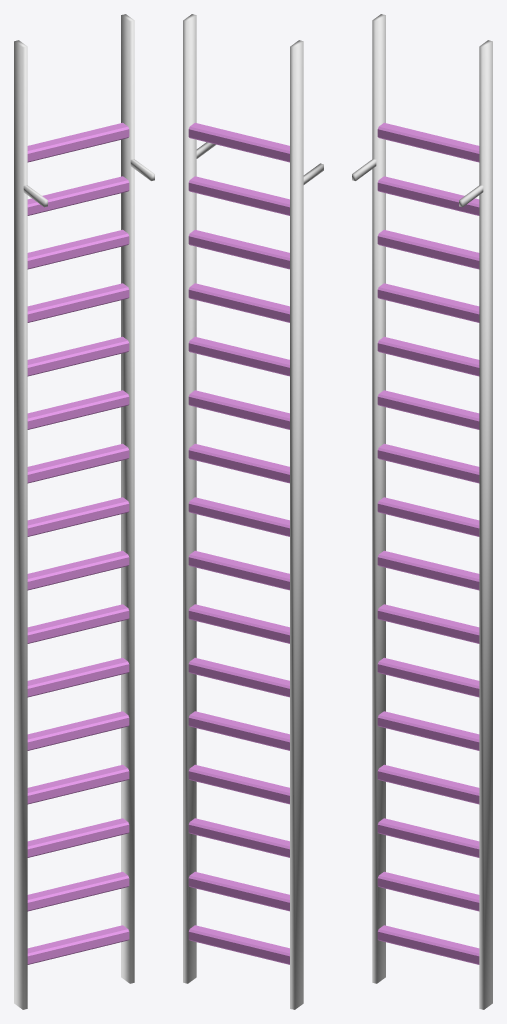
File: Ladder.fbx
The picture shows the model from 3 angles, left to right: view 1: azimuth 30°, elevation 25°; view 2: azimuth 150°, elevation 25°; view 3: azimuth 330°, elevation 25°; orthographic projection.
Visible parts, largest first — view 1: Ladder; view 2: Ladder; view 3: Ladder.
Part boxes in pixels (x1,y1,x2,y2): Ladder: (14, 14, 154, 1009); Ladder: (183, 14, 323, 1009); Ladder: (352, 14, 492, 1009).
Bounding box in the file's own units: 0.8378 × 6.89 × 0.3839.
